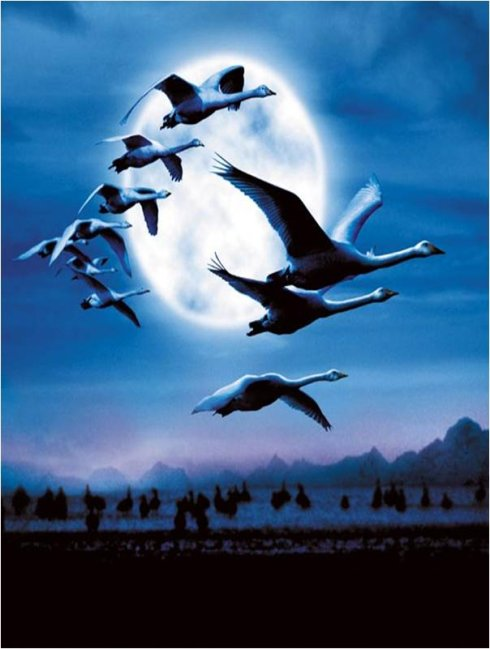bird: (213, 147, 445, 277), (201, 258, 400, 345), (193, 359, 349, 435), (118, 61, 276, 129), (90, 129, 207, 187), (74, 178, 172, 238), (45, 219, 139, 279), (68, 259, 148, 329), (19, 233, 92, 272)
